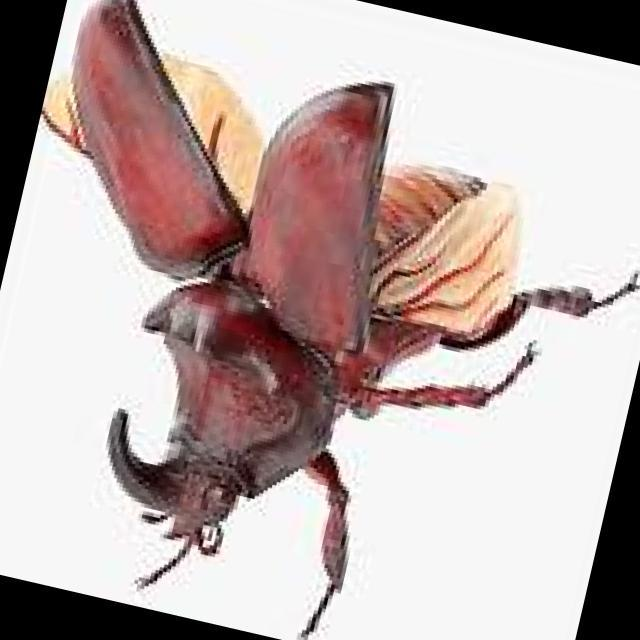Rhino-beetle: (38, 20, 604, 599)
